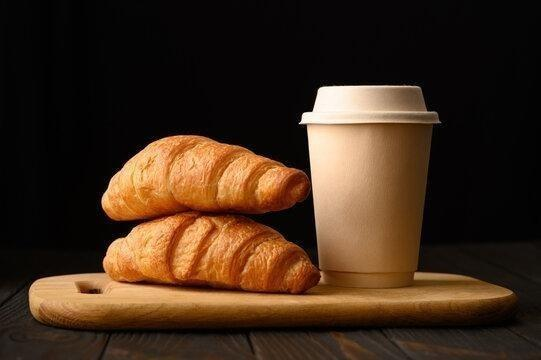cup-disposable: (299, 82, 442, 290)
